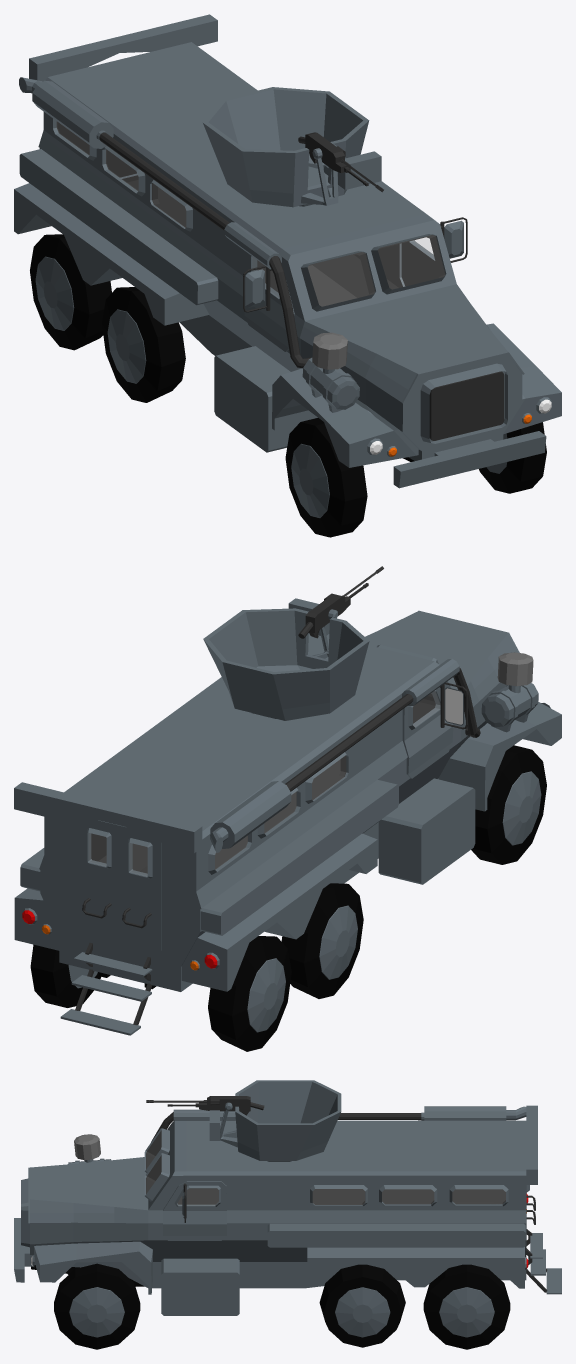
3 renders of one model, top to bottom at view 1: azimuth 30°, elevation 25°; view 2: azimuth 150°, elevation 25°; view 3: azimuth 270°, elevation 25°, orthographic. The views are drawn at different scales.
Visible parts, largest first — view 1: Plane.021, Cylinder.025, Cube.012, Cylinder.022, Cylinder.023, Plane.023, Cylinder.026, Plane.027, Plane.022, Plane.026, Cube.013, Cylinder.021; view 2: Plane.021, Cylinder.025, Cube.012, Cylinder.026, Cylinder.022, Cylinder.023, Plane.025, Plane.024, Plane.022, Plane.027, Cylinder.027, Cube.013 (+1 smaller); view 3: Plane.021, Cube.012, Cylinder.021, Cylinder.027, Cylinder.024, Cylinder.025, Plane.027, Plane.026, Plane.023, Cube.013.
Boxes of the visible parts, left/top/right/bottom form: Plane.021: left=14, top=42, right=561, bottom=488; Cylinder.025: left=19, top=14, right=359, bottom=412; Cube.012: left=202, top=87, right=369, bottom=207; Cylinder.022: left=102, top=287, right=185, bottom=402; Cylinder.023: left=285, top=418, right=367, bottom=537; Plane.023: left=57, top=122, right=444, bottom=305; Cylinder.026: left=30, top=234, right=111, bottom=350; Plane.027: left=56, top=121, right=445, bottom=306; Plane.022: left=243, top=254, right=294, bottom=351; Plane.026: left=401, top=217, right=467, bottom=286; Cube.013: left=298, top=132, right=383, bottom=192; Cylinder.021: left=479, top=422, right=546, bottom=493; Plane.021: left=14, top=610, right=561, bottom=1035; Cylinder.025: left=14, top=652, right=538, bottom=853; Cube.012: left=203, top=605, right=369, bottom=720; Cylinder.026: left=208, top=936, right=291, bottom=1051; Cylinder.022: left=281, top=883, right=363, bottom=998; Cylinder.023: left=471, top=745, right=546, bottom=864; Plane.025: left=120, top=825, right=161, bottom=950; Plane.024: left=79, top=819, right=119, bottom=940; Plane.022: left=402, top=682, right=467, bottom=778; Plane.027: left=91, top=693, right=435, bottom=873; Cylinder.027: left=30, top=944, right=100, bottom=1007; Cube.013: left=288, top=566, right=383, bottom=638; Plane.021: left=14, top=1120, right=561, bottom=1315; Cube.012: left=220, top=1080, right=341, bottom=1161; Cylinder.021: left=54, top=1263, right=140, bottom=1349; Cylinder.027: left=423, top=1264, right=510, bottom=1349; Cylinder.024: left=319, top=1264, right=405, bottom=1347; Cylinder.025: left=68, top=1105, right=537, bottom=1184; Plane.027: left=146, top=1130, right=505, bottom=1204; Plane.026: left=163, top=1181, right=226, bottom=1240; Plane.023: left=146, top=1132, right=505, bottom=1204; Cube.013: left=146, top=1096, right=264, bottom=1140.
Size of the model in its own units: 253 by 323 by 741.
